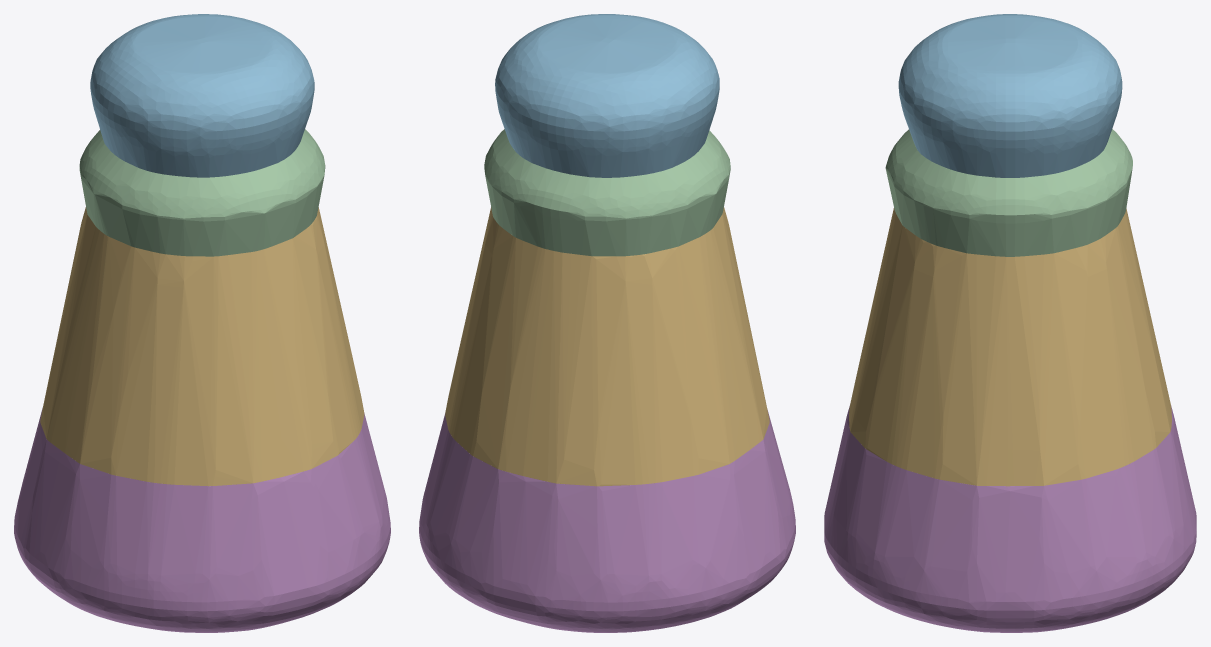
Rendered from salt_shaker_collision.glb.
3 renders of one model, left to right at view 1: azimuth 30°, elevation 25°; view 2: azimuth 150°, elevation 25°; view 3: azimuth 270°, elevation 25°, orthographic.
Visible parts, largest first — view 1: world; view 2: world; view 3: world.
Part boxes in pixels (x1,y1,x2,y2): world: (14, 14, 390, 632); world: (419, 14, 795, 632); world: (824, 14, 1196, 632).
Size of the model in its own units: 0.0793 by 0.1256 by 0.0792.
